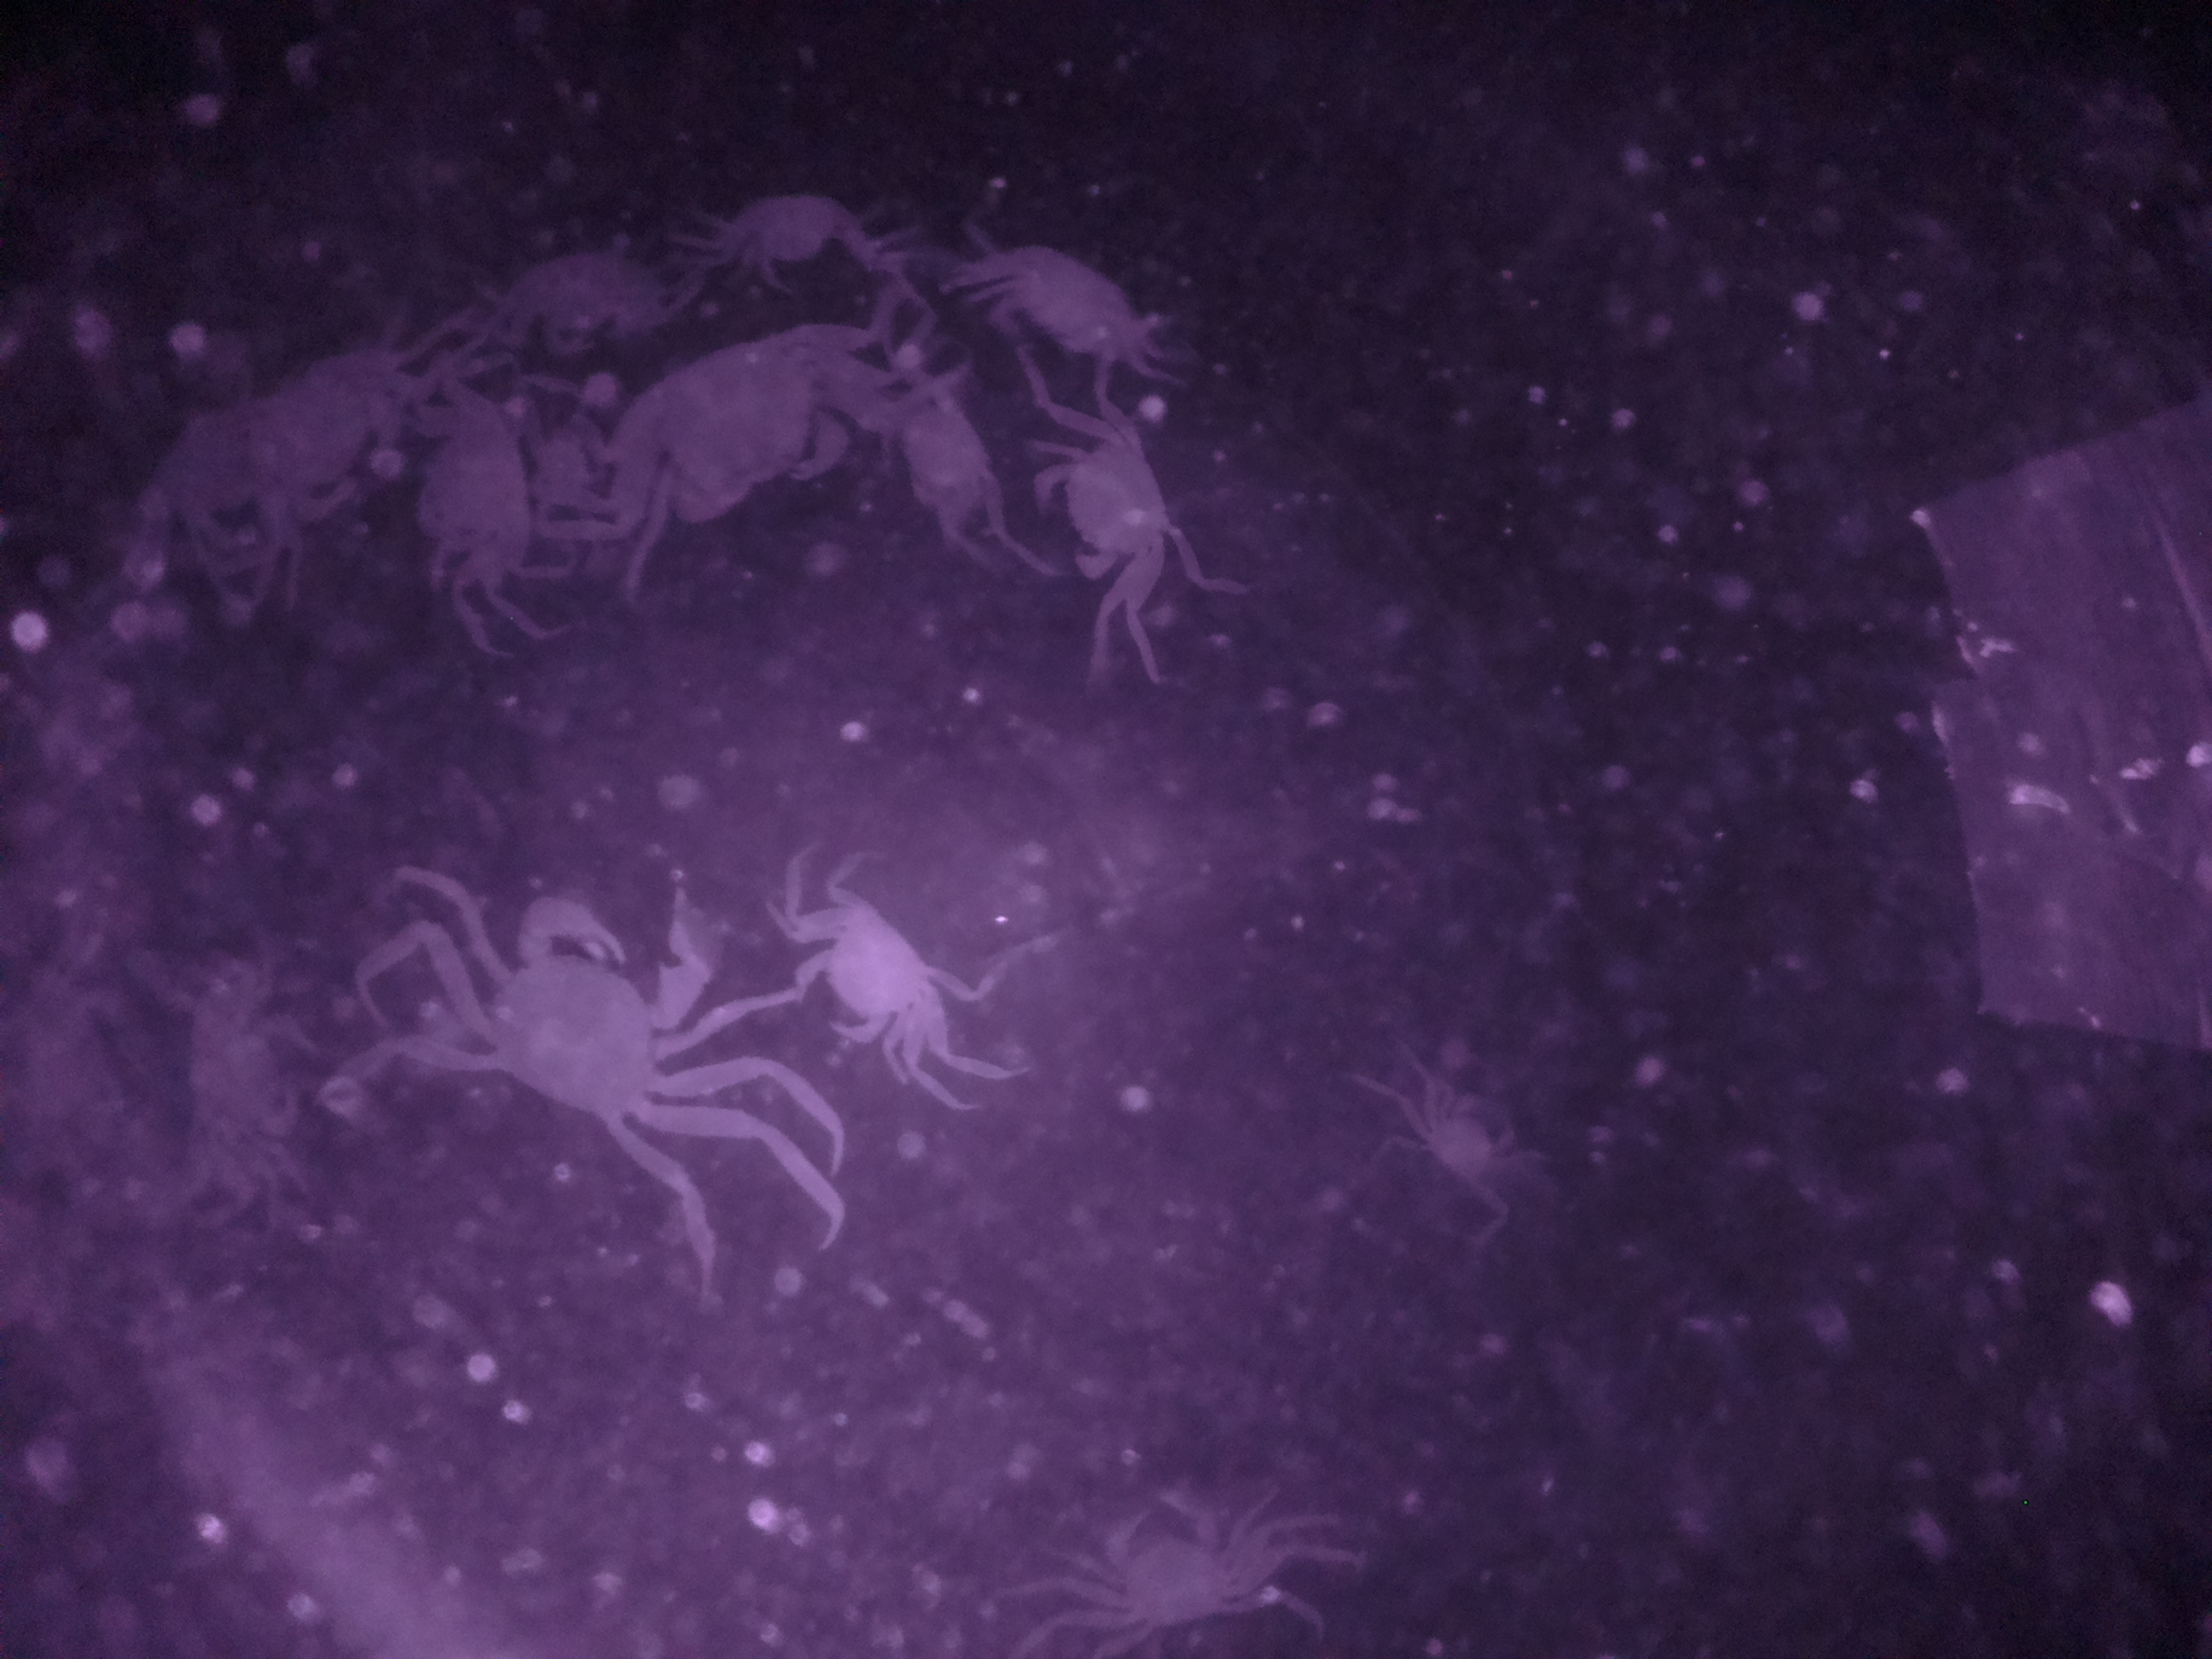Crab: (463, 856, 728, 1185), (622, 308, 860, 577), (775, 897, 972, 1100), (1033, 399, 1200, 612), (415, 392, 545, 592)
